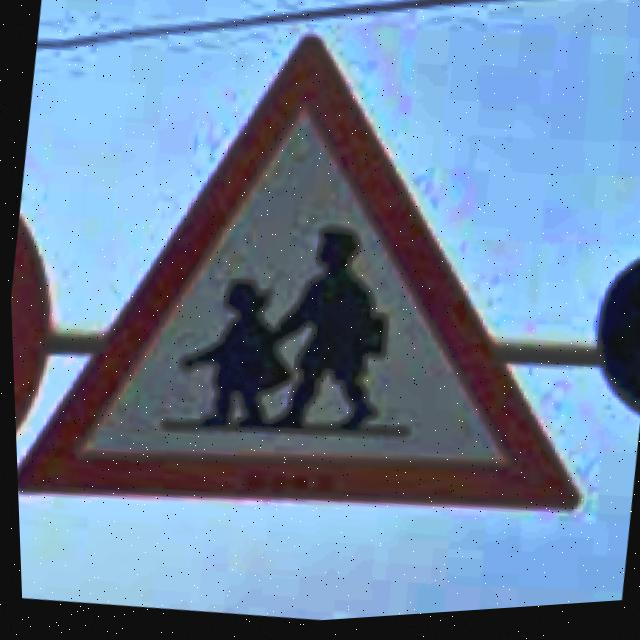childrencross: (14, 39, 576, 516)
